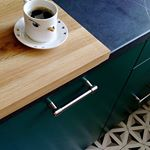cups: (11, 1, 69, 50)
